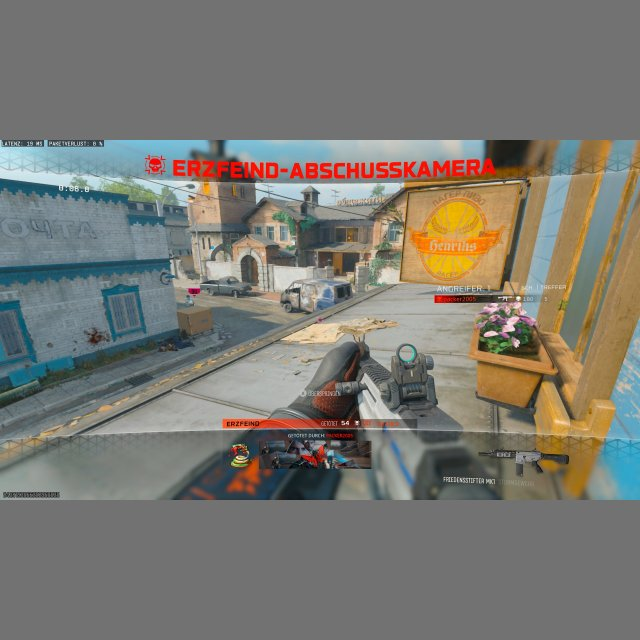player: (184, 294, 194, 307)
